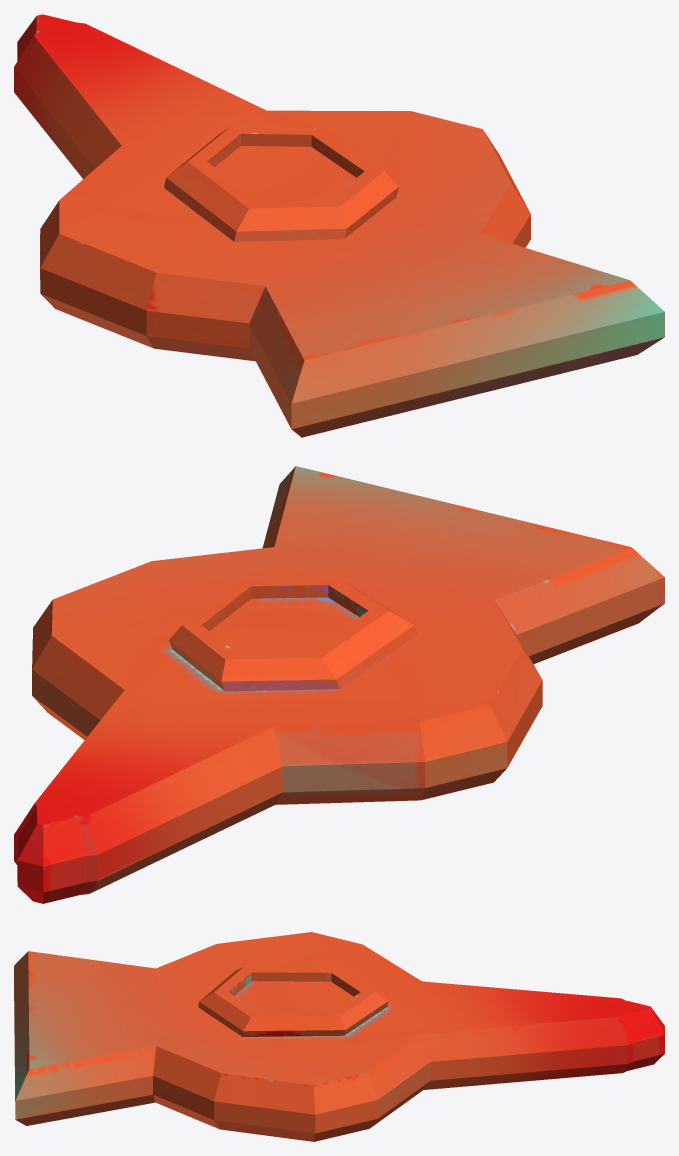
The model's file is particle2.glb.
The picture shows the model from 3 angles, top to bottom: view 1: azimuth 30°, elevation 25°; view 2: azimuth 150°, elevation 25°; view 3: azimuth 270°, elevation 25°; orthographic projection. The views are drawn at different scales.
Parts seen in each view (by area): view 1: 平面; view 2: 平面; view 3: 平面.
Part boxes in pixels (x1,y1,x2,y2): 平面: (14,14,664,437); 平面: (14,466,664,903); 平面: (14,932,664,1141).
Bounding box in the file's own units: 7.19 × 1.46 × 11.89.
Materials: 1 (1 with a texture image).
